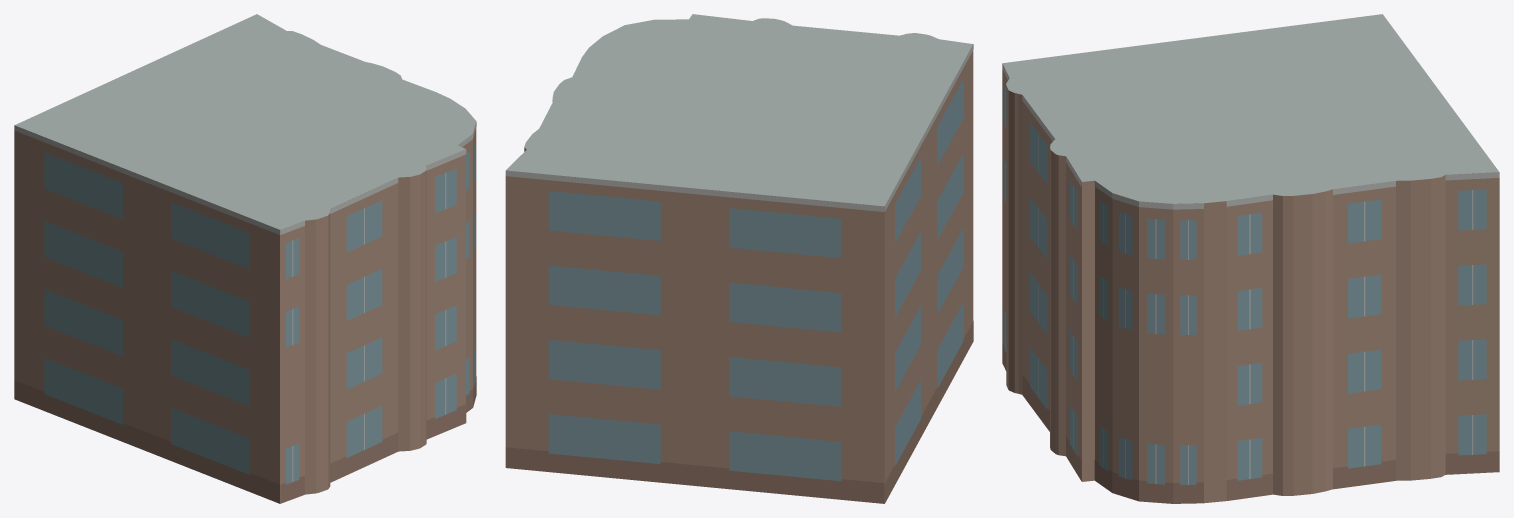
The model's file is survey-upis-32982152.glb.
3 renders of one model, left to right at view 1: azimuth 30°, elevation 25°; view 2: azimuth 150°, elevation 25°; view 3: azimuth 270°, elevation 25°, orthographic. The views are drawn at different scales.
Visible parts, largest first — view 1: survey-upis-32982152.tmp; view 2: survey-upis-32982152.tmp; view 3: survey-upis-32982152.tmp.
Part boxes in pixels (x1,y1,x2,y2): survey-upis-32982152.tmp: (14,14,476,503); survey-upis-32982152.tmp: (505,14,973,503); survey-upis-32982152.tmp: (1002,14,1499,503).
Bounding box in the file's own units: 17.39 × 12.8 × 19.23.
